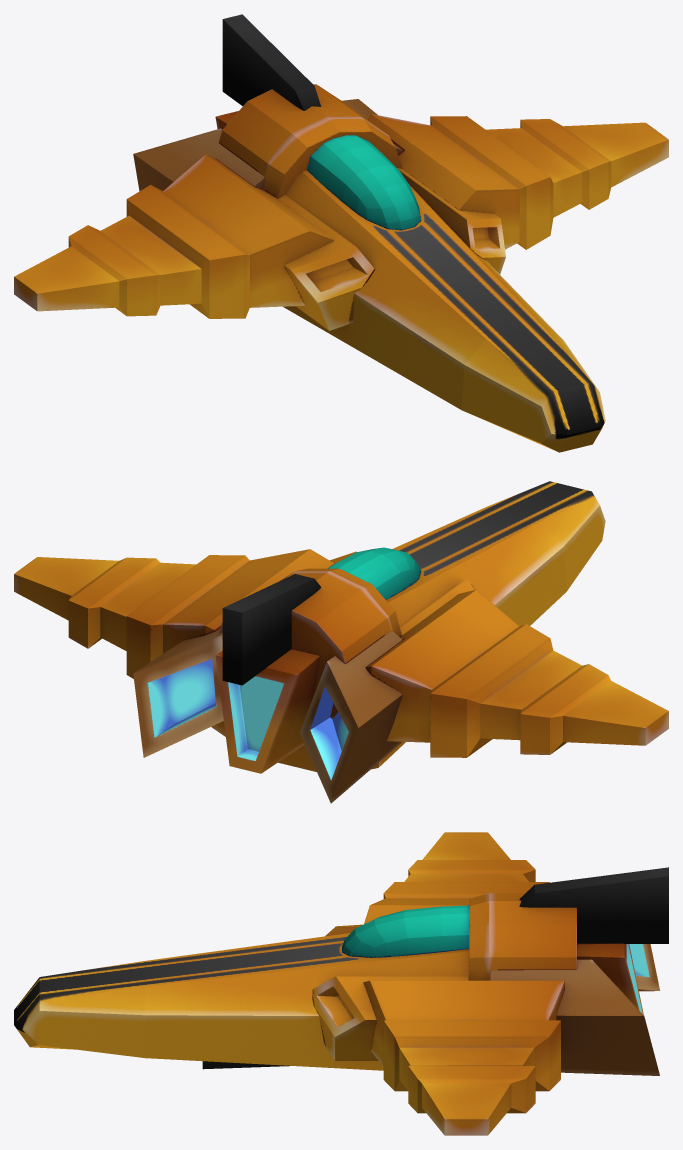
Rendered from heroShip.fbx.
The picture shows the model from 3 angles, top to bottom: view 1: azimuth 30°, elevation 25°; view 2: azimuth 150°, elevation 25°; view 3: azimuth 270°, elevation 25°; orthographic projection. The views are drawn at different scales.
Visible parts, largest first — view 1: heroShip_body, heroShip_wing_Right, heroShip_wing_Left, heroShip_cockpit, heroShip_engines; view 2: heroShip_body, heroShip_wing_Right, heroShip_engines, heroShip_wing_Left, heroShip_cockpit; view 3: heroShip_body, heroShip_wing_Left, heroShip_engines, heroShip_wing_Right, heroShip_cockpit.
Part boxes in pixels (box(x1,y1,x2,y2)): heroShip_body: box(218, 14, 605, 452); heroShip_wing_Right: box(14, 154, 374, 330); heroShip_wing_Left: box(367, 114, 668, 274); heroShip_cockpit: box(307, 135, 421, 230); heroShip_engines: box(133, 99, 402, 191); heroShip_body: box(211, 481, 605, 771); heroShip_wing_Right: box(365, 578, 668, 757); heroShip_engines: box(133, 629, 402, 803); heroShip_wing_Left: box(14, 549, 356, 678); heroShip_cockpit: box(327, 547, 421, 599); heroShip_body: box(14, 867, 668, 1070); heroShip_wing_Left: box(312, 976, 564, 1135); heroShip_engines: box(490, 943, 659, 1075); heroShip_wing_Right: box(325, 832, 549, 936); heroShip_cockpit: box(342, 905, 469, 957).
Size of the model in its own units: 529 by 165 by 510.
